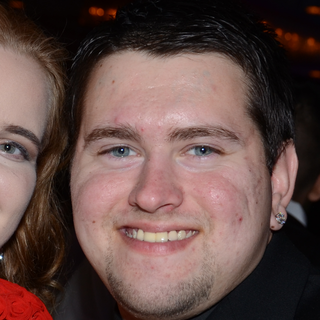eye: (93, 141, 145, 163), (175, 142, 228, 162), (1, 138, 33, 166)
